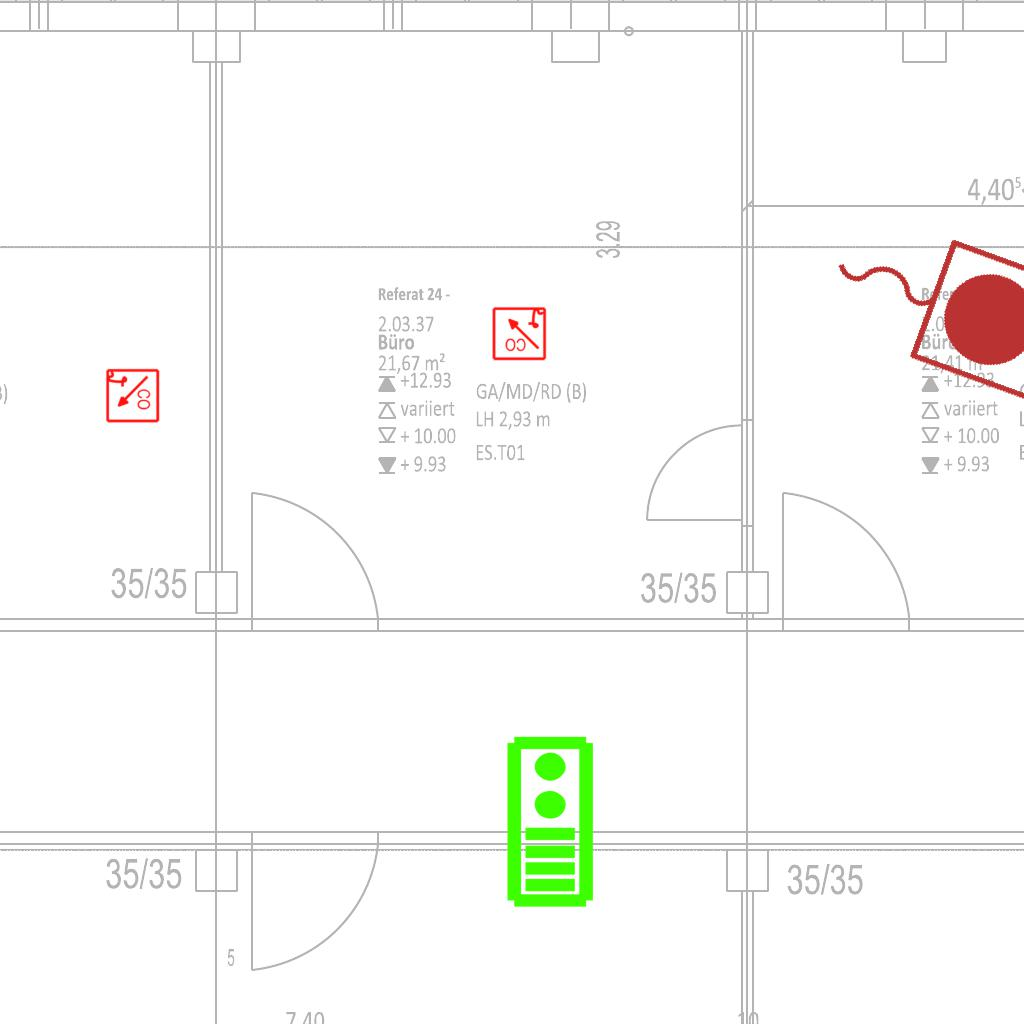Gegensprechanlage_mit_Video: (501, 733, 596, 909)
ROA_Rauchmelder_optisch_mit_Signalgeber_(Sockelsirene): (104, 368, 160, 424), (491, 305, 547, 361)
Zugtaster: (804, 191, 1024, 411)
